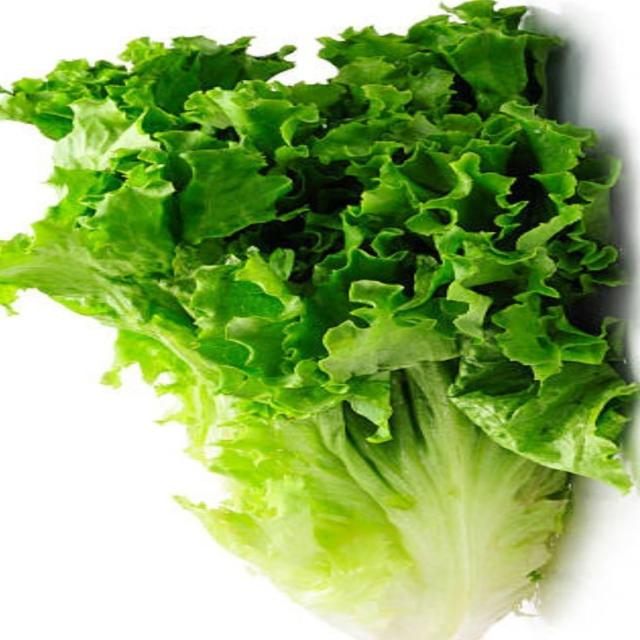lettuce: (0, 0, 633, 639)
